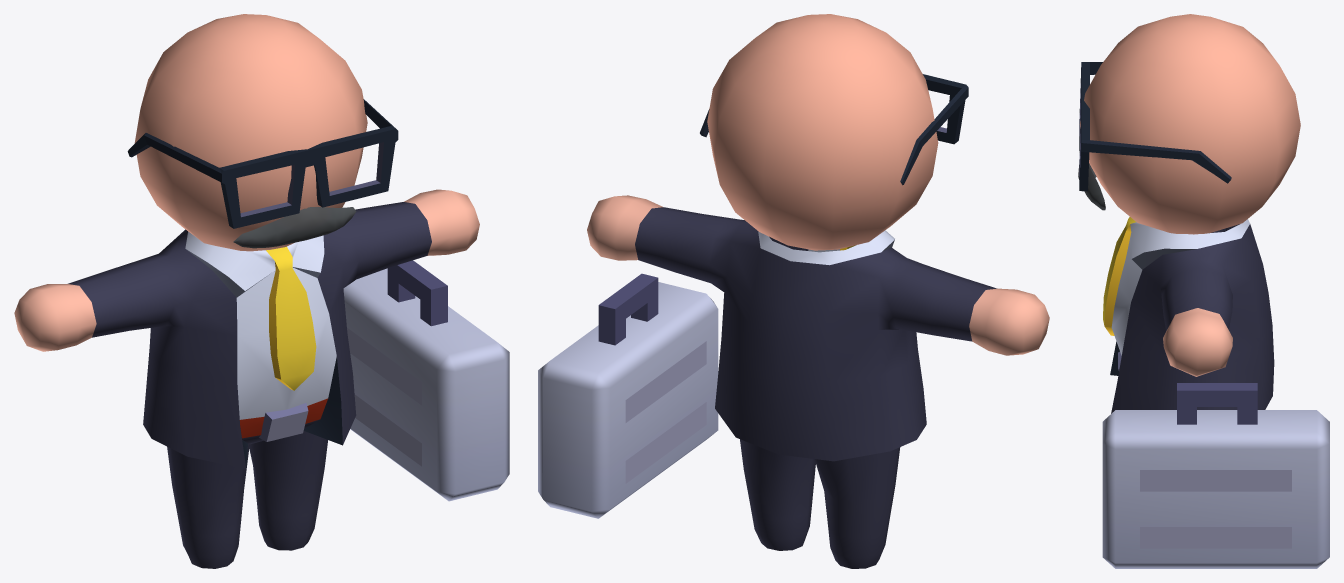
File: Boss.fbx
3 views of the same model, side by side, from view 1: azimuth 30°, elevation 25°; view 2: azimuth 150°, elevation 25°; view 3: azimuth 270°, elevation 25° (orthographic). The views are drawn at different scales.
Parts seen in each view (by area): view 1: Boss; view 2: Boss; view 3: Boss.
Part boxes in pixels (bbox=[...]): Boss: bbox=[14, 14, 509, 568]; Boss: bbox=[538, 14, 1049, 568]; Boss: bbox=[1078, 14, 1329, 568].
Bounding box in the file's own units: 5.61 × 6.27 × 2.91.
Materials: 2 (2 with a texture image).
